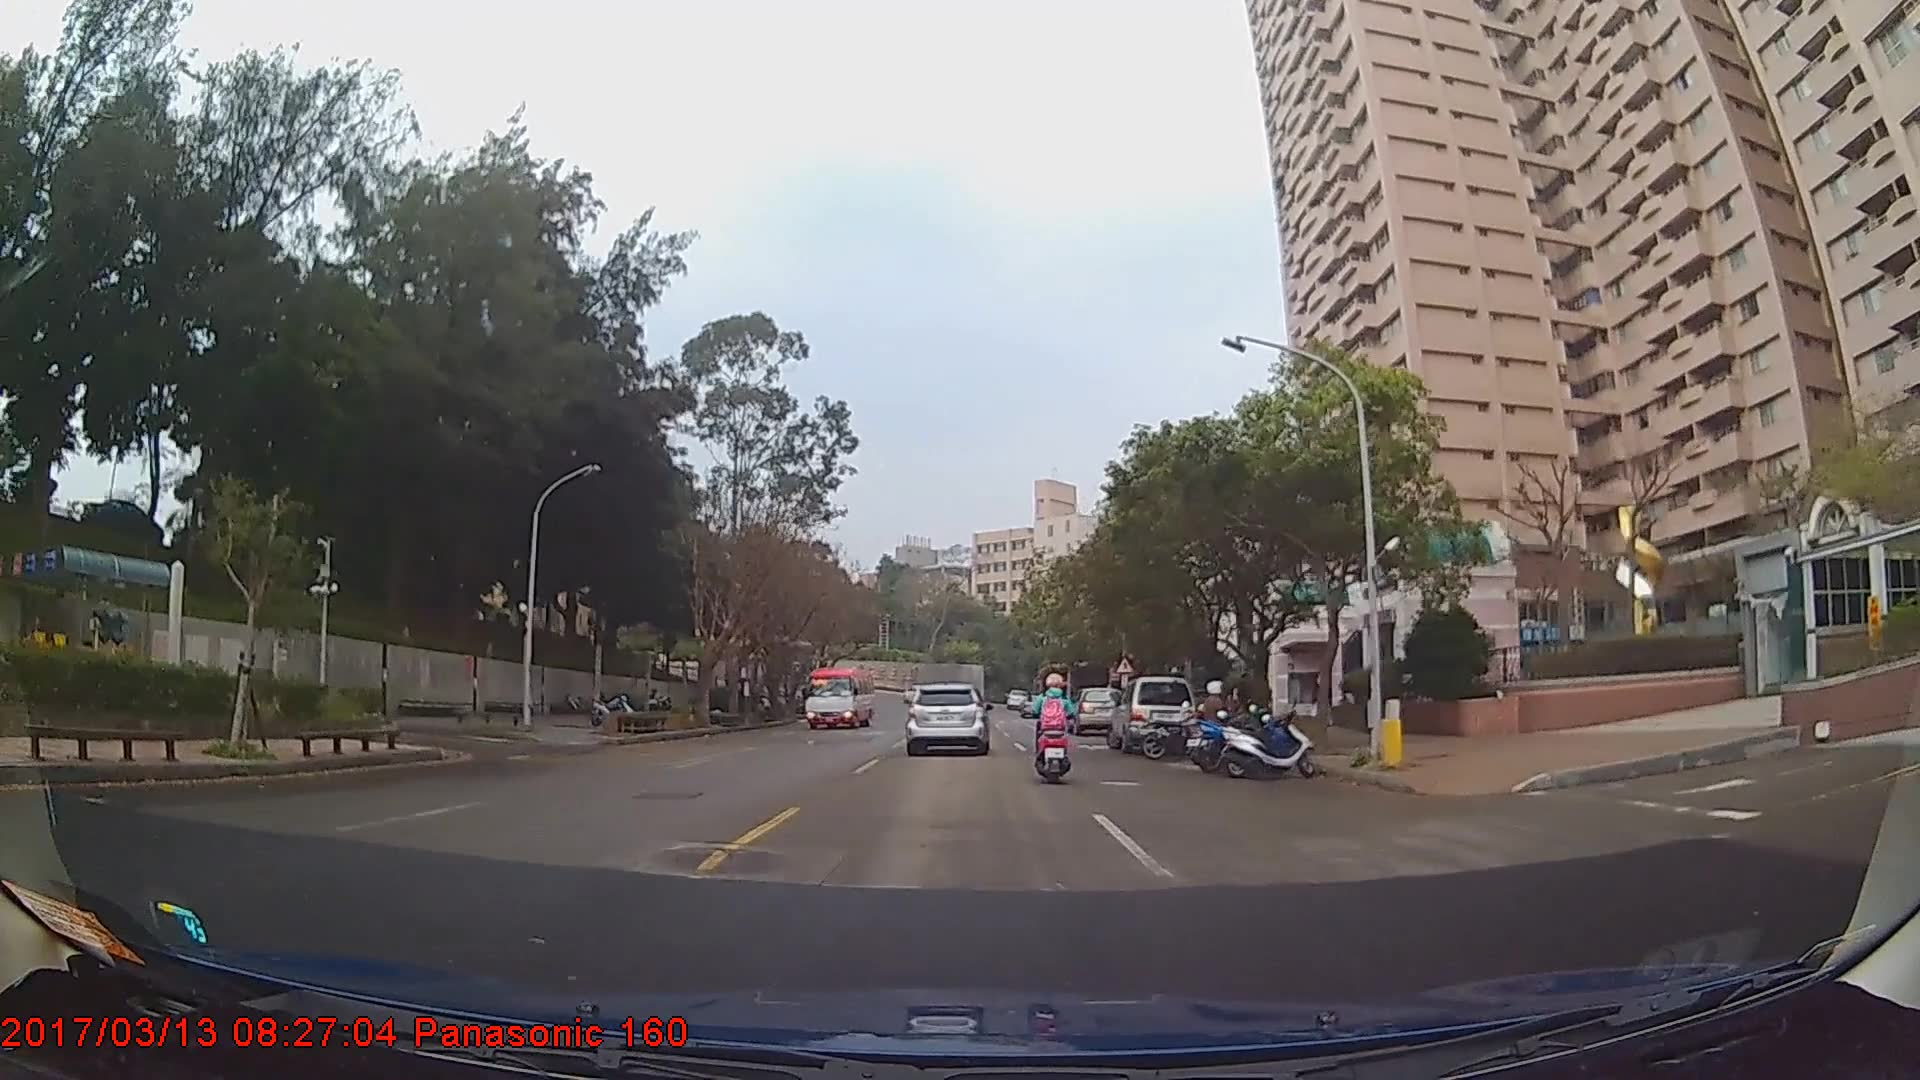rider: (1034, 672, 1082, 790), (1191, 679, 1240, 765)
vehicle: (1106, 676, 1197, 754), (905, 682, 989, 759), (803, 664, 875, 730), (1070, 686, 1123, 735)
